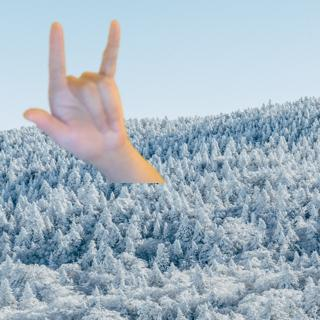ILY: (17, 14, 135, 158)
